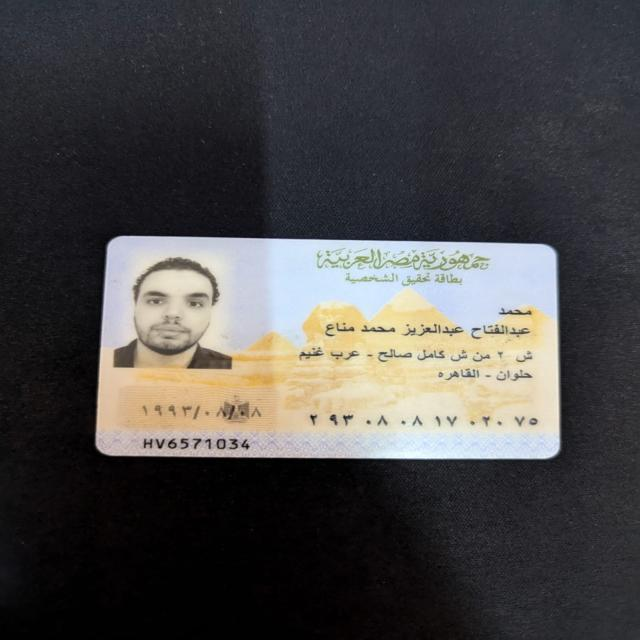id_card: (84, 231, 570, 472)
